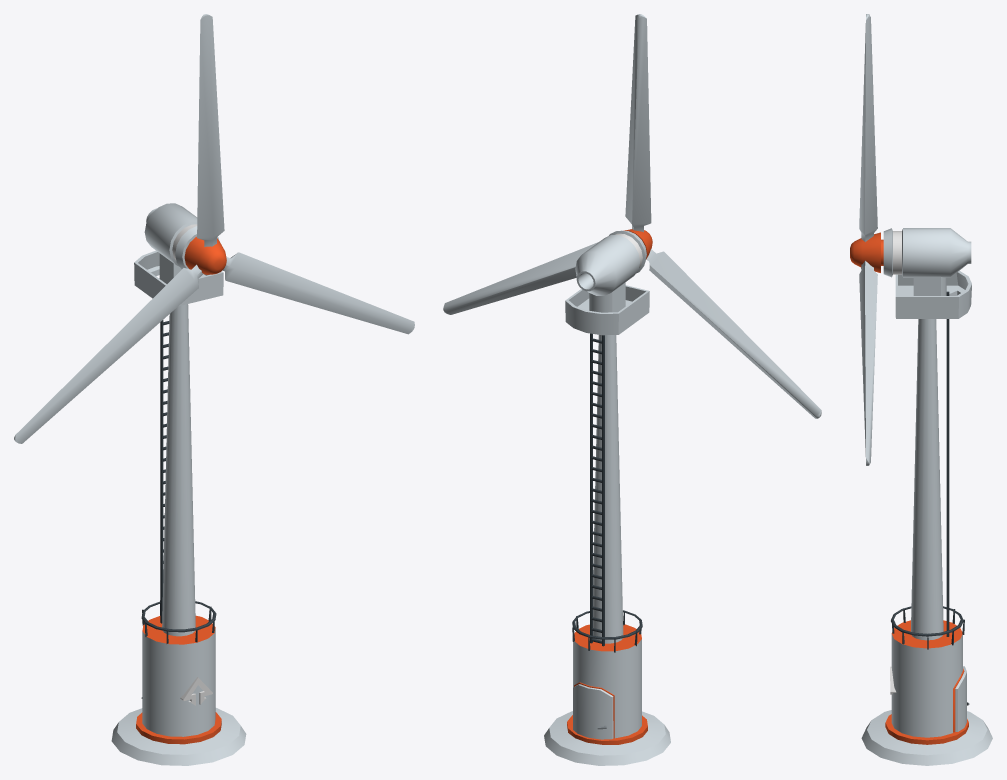
The model's file is Molino.fbx.
3 renders of one model, left to right at view 1: azimuth 30°, elevation 25°; view 2: azimuth 150°, elevation 25°; view 3: azimuth 270°, elevation 25°, orthographic. The views are drawn at different scales.
Parts seen in each view (by area): view 1: Base_Molino, Elise_Molino; view 2: Base_Molino, Elise_Molino; view 3: Base_Molino, Elise_Molino.
Part boxes in pixels (x1,y1,x2,y2): Base_Molino: [111, 203, 246, 765]; Elise_Molino: [14, 14, 414, 443]; Base_Molino: [544, 230, 670, 765]; Elise_Molino: [443, 14, 821, 418]; Base_Molino: [861, 228, 992, 765]; Elise_Molino: [850, 14, 883, 465].
Size of the model in its own units: 26.72 by 47.65 by 8.56.
